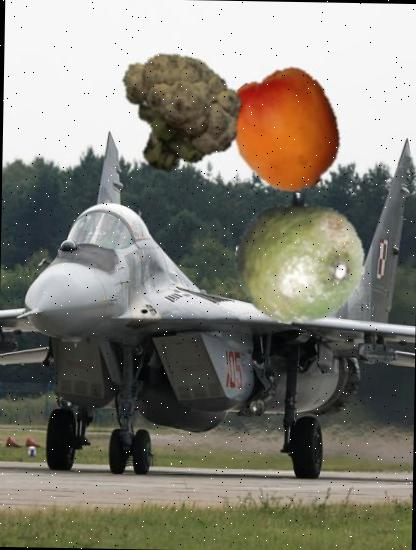Apricot: (224, 66, 350, 192)
Cauliflower: (111, 42, 244, 176)
Limes: (234, 192, 368, 326)
